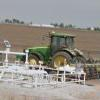Tractor: (15, 28, 100, 81)
